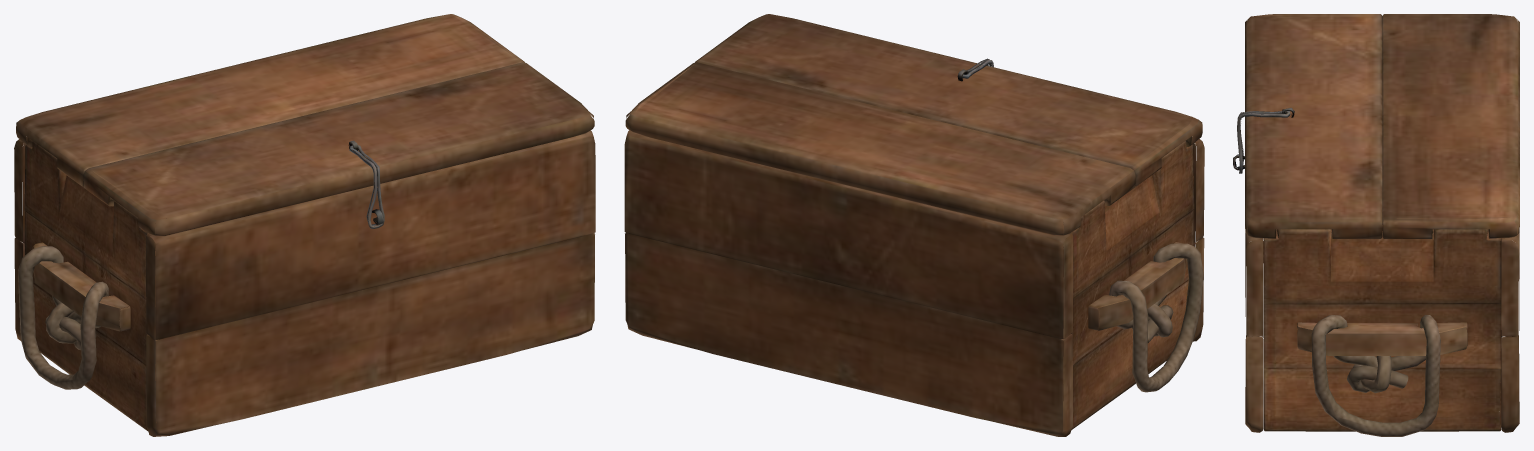
3 views of the same model, side by side, from view 1: azimuth 30°, elevation 25°; view 2: azimuth 150°, elevation 25°; view 3: azimuth 270°, elevation 25° (orthographic). The views are drawn at different scales.
Bounding box in the file's own units: 0.8245 × 0.3496 × 0.4088.
1 material, 1 textured.
